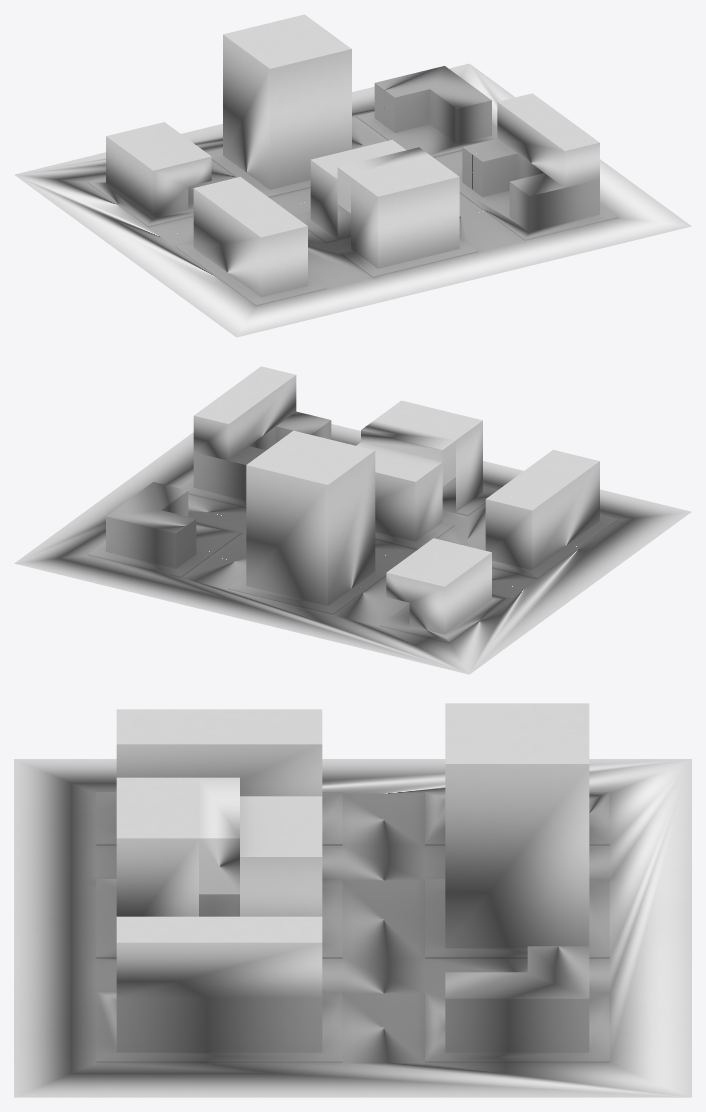
File: scn.obj
The picture shows the model from 3 angles, top to bottom: view 1: azimuth 30°, elevation 25°; view 2: azimuth 150°, elevation 25°; view 3: azimuth 270°, elevation 25°; orthographic projection. The views are drawn at different scales.
Visible parts, largest first — view 1: Box01; view 2: Box01; view 3: Box01.
Part boxes in pixels (x1=…): Box01: x1=14, y1=14, x2=691, y2=337; Box01: x1=14, y1=366, x2=691, y2=674; Box01: x1=14, y1=703, x2=691, y2=1097.
Size of the model in its own units: 7800 by 2000 by 6600.
